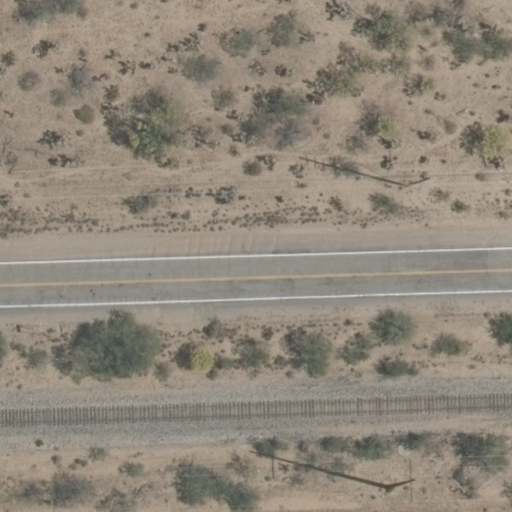DT: (388, 465, 419, 490), (406, 170, 438, 186)
